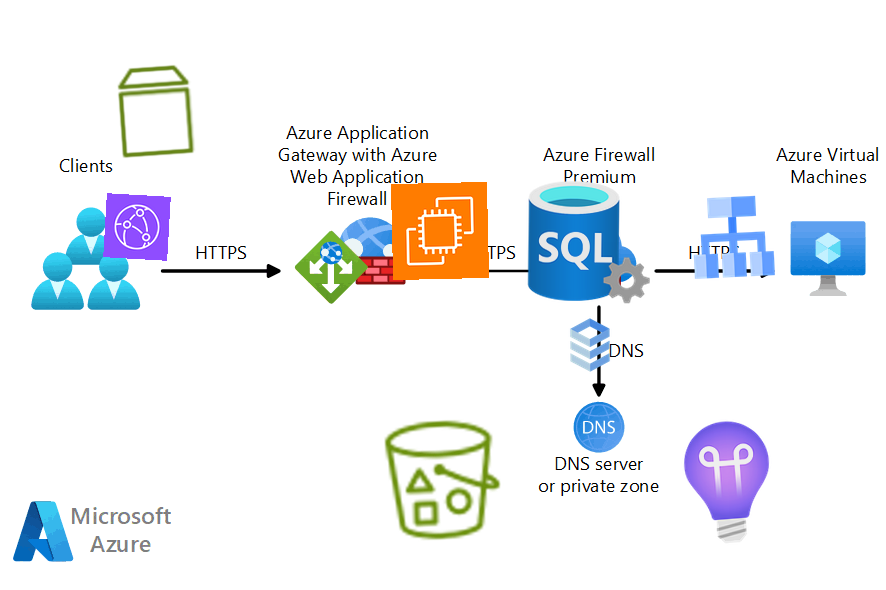aws_amazon_cloudfront: (103, 193, 171, 261)
aws_amazon_ec2: (390, 181, 490, 281)
aws_elastic_block_store_volume: (104, 59, 208, 163)
aws_simple_storage_service_bucket_with_objects: (376, 413, 510, 547)
azure_application_insights: (659, 413, 797, 551)
azure_sql_server: (524, 177, 654, 307)
gcp_cloud_load_balancing: (682, 186, 784, 288)
gcp_cloud_sql: (557, 312, 623, 378)
